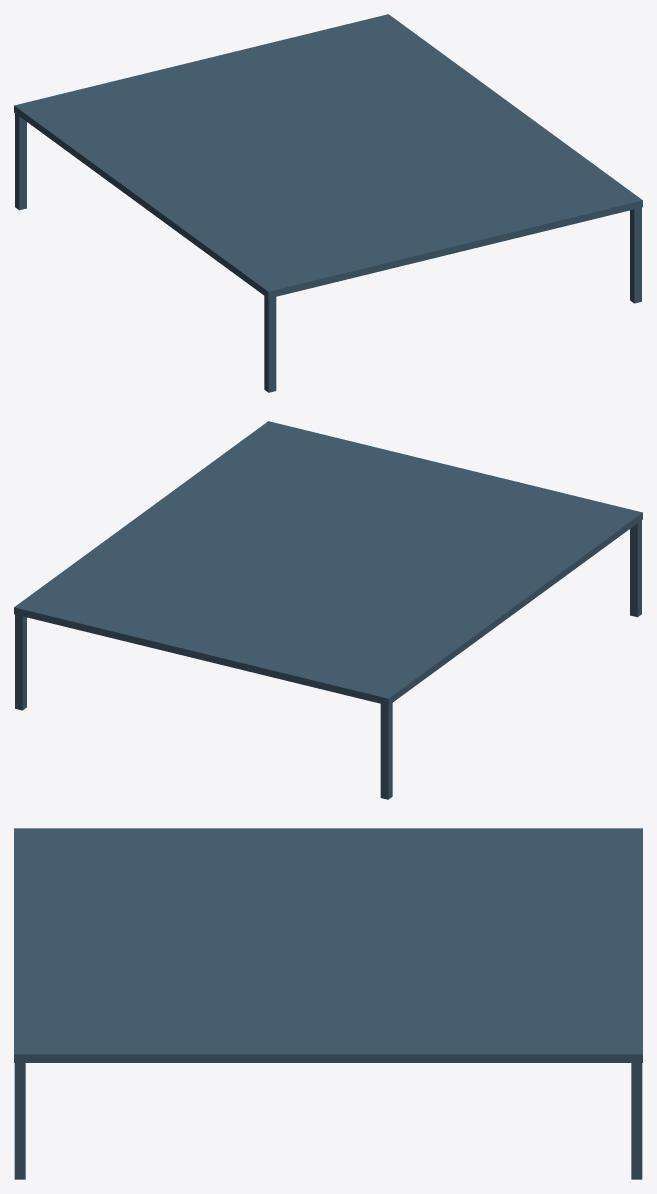
File: v02-03-04-deck.glb
3 views of the same model, one above another, from view 1: azimuth 30°, elevation 25°; view 2: azimuth 150°, elevation 25°; view 3: azimuth 270°, elevation 25° (orthographic). The views are drawn at different scales.
Parts seen in each view (by area): view 1: v02-03-04-deck; view 2: v02-03-04-deck; view 3: v02-03-04-deck.
Part boxes in pixels (x1=…): v02-03-04-deck: x1=14, y1=14, x2=642, y2=392; v02-03-04-deck: x1=14, y1=421, x2=642, y2=799; v02-03-04-deck: x1=14, y1=828, x2=642, y2=1179.
Bounding box in the file's own units: 17 × 4.4 × 20.
